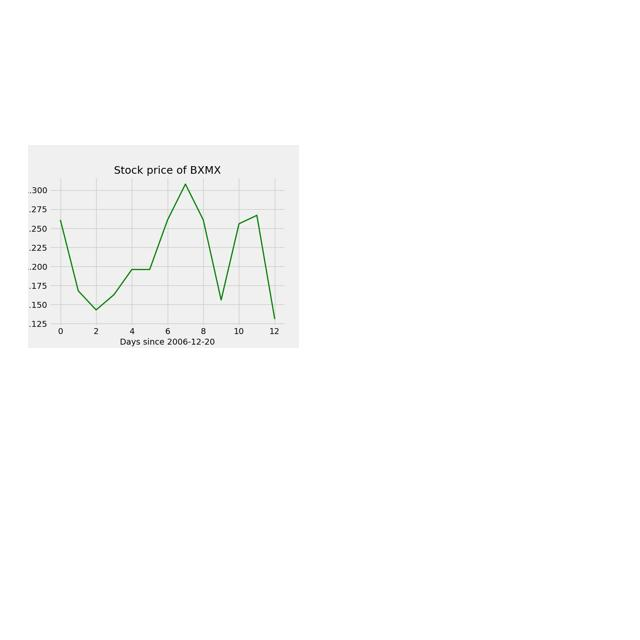Graph: (28, 145, 299, 348)
